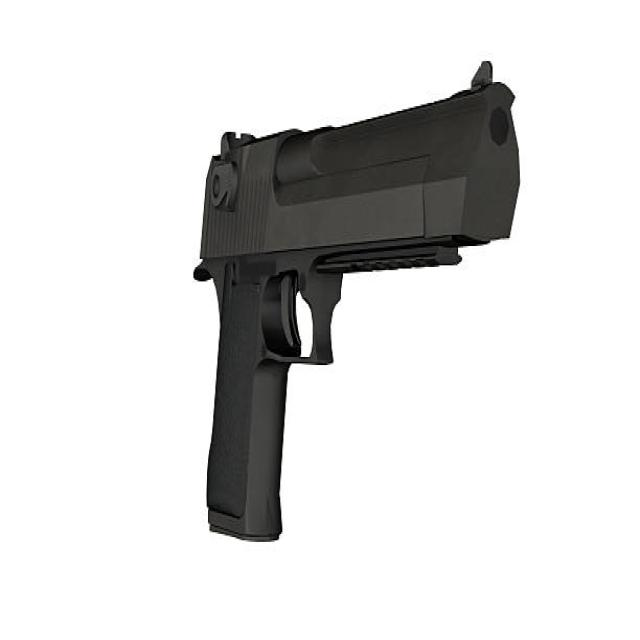pistol: (189, 55, 524, 550)
